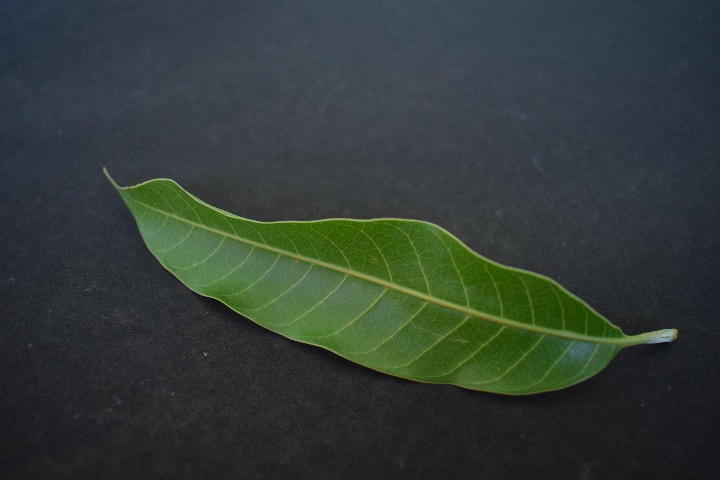healthy: (122, 175, 617, 405)
